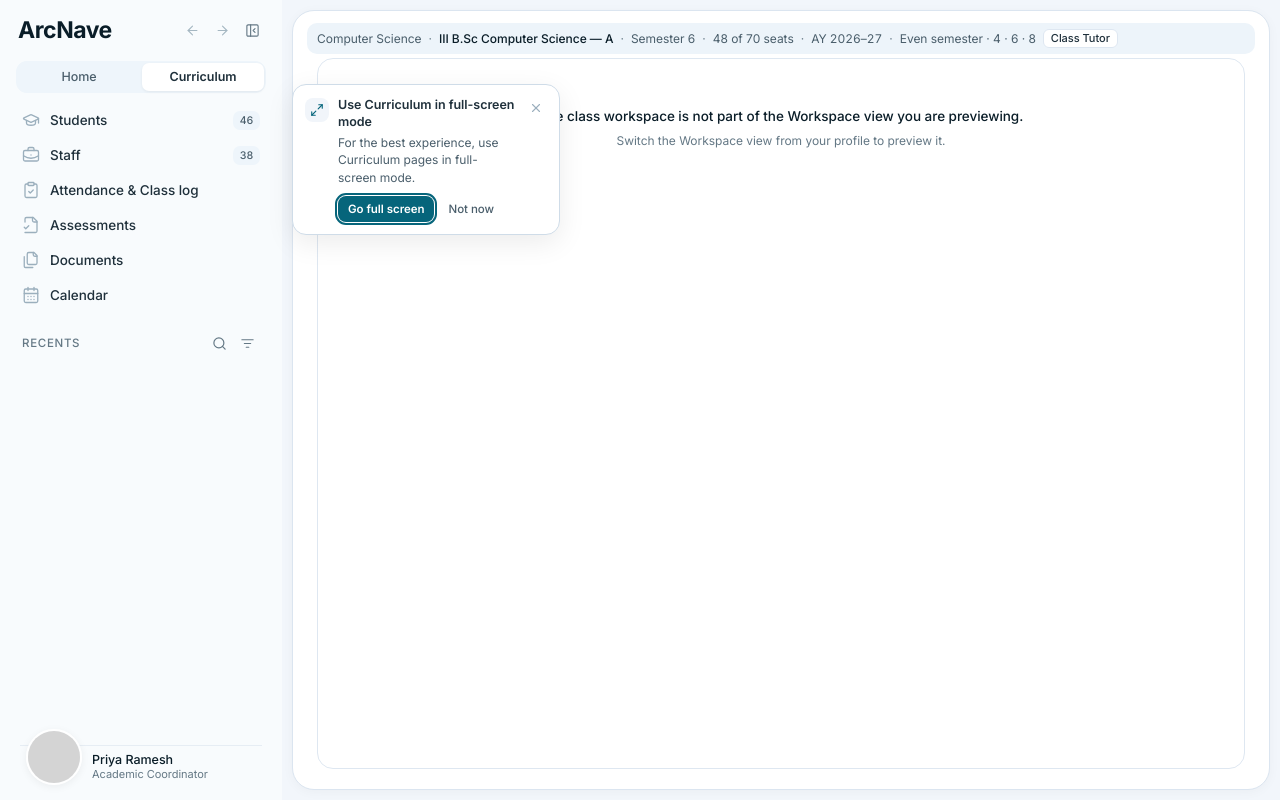
Promoted students and prior-semester history › shows the previous semester as read-only, with no control at all
This screenshot has width=1280, height=800.
Click the button with aria-label "open profile" at (141, 767), box [20,746,262,788]
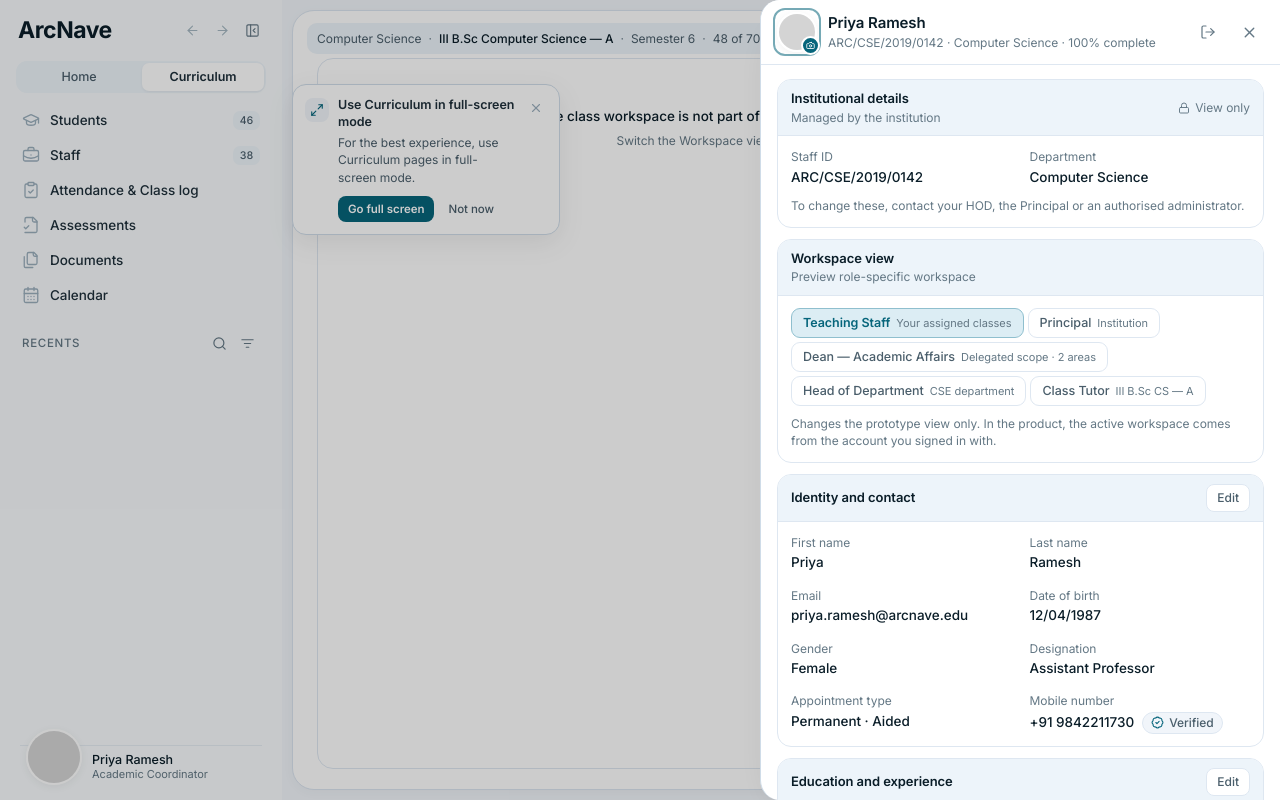
Click the radio button labelled "Class Tutor" at (1118, 391), box [1030,376,1206,406]
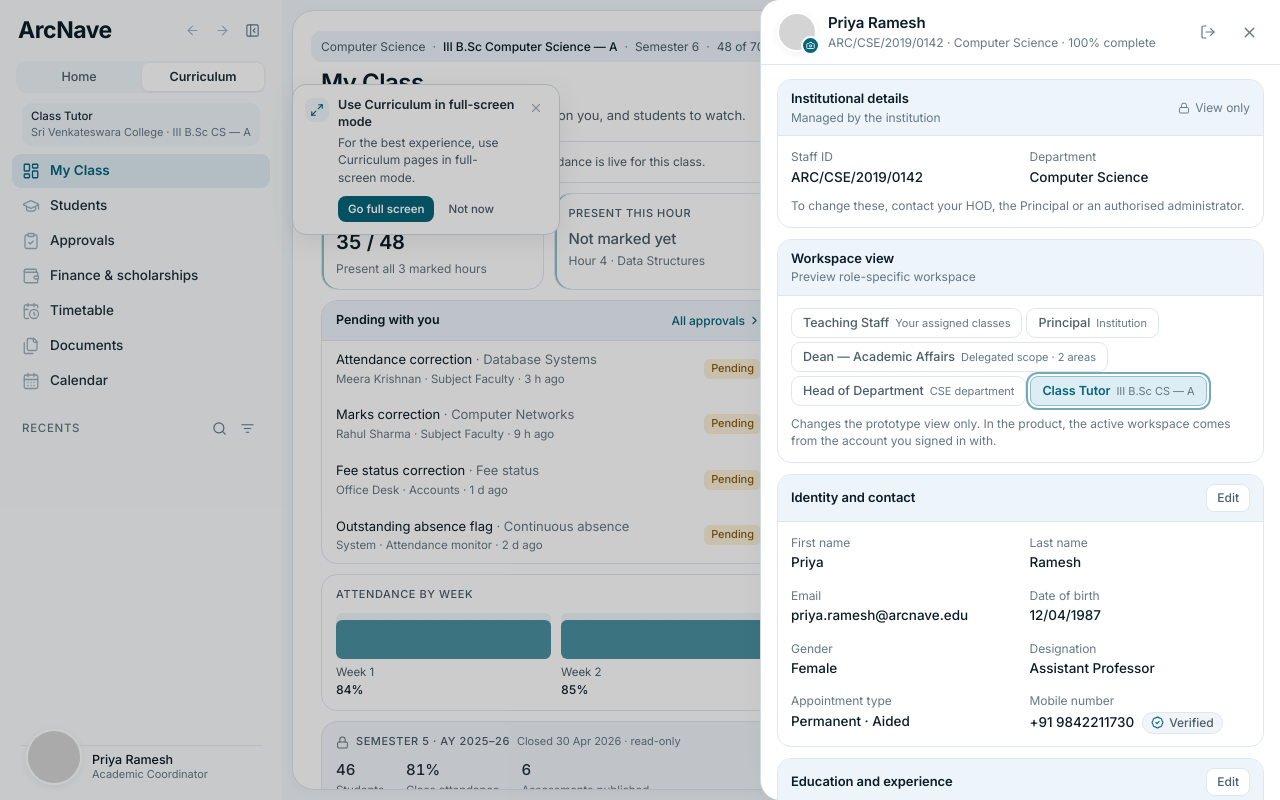
Click the button named "close profile" at (1249, 32), box [1234,17,1264,47]
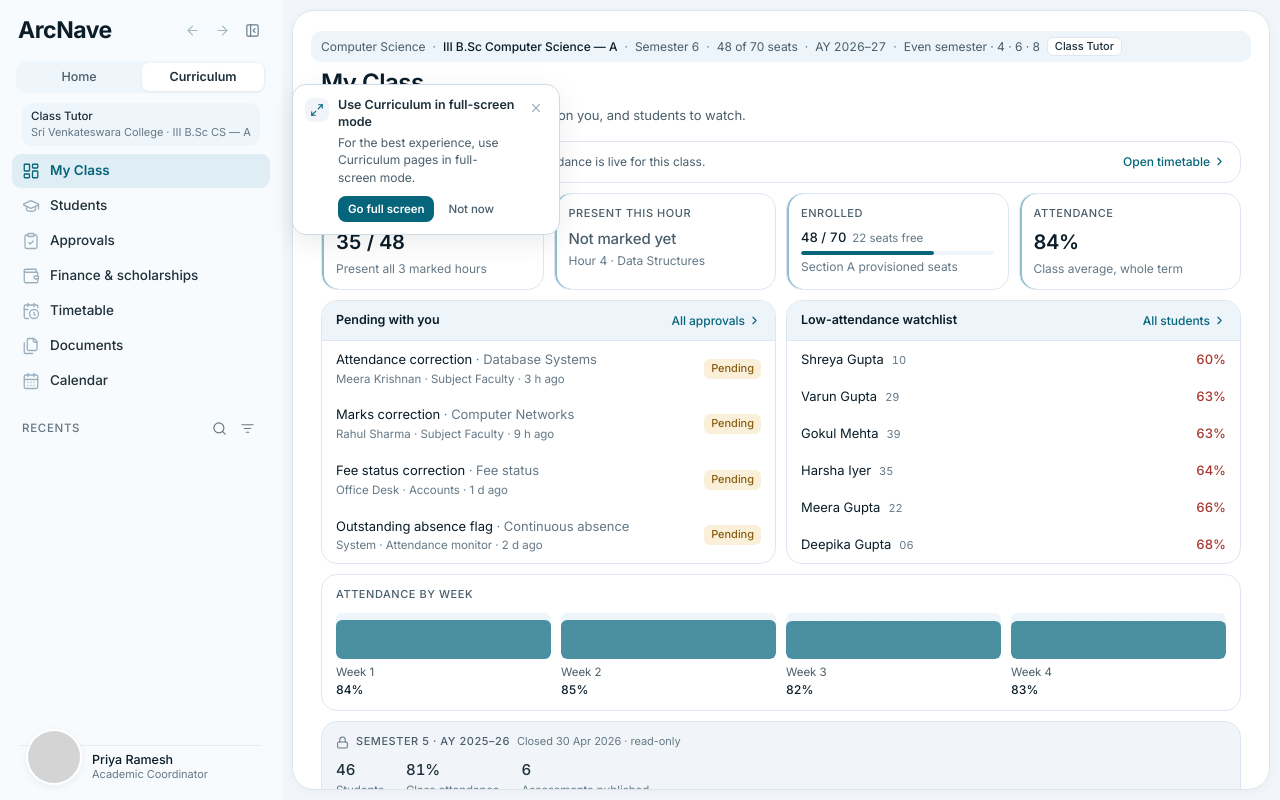
Check: the text "Closed 30 Apr 2026 · read-only" is shown, box [517,734,681,750]
Check: the heading "Semester 5 · AY 2025–26" is shown, box [356,734,510,750]
Check: the button "Edit" is gone
